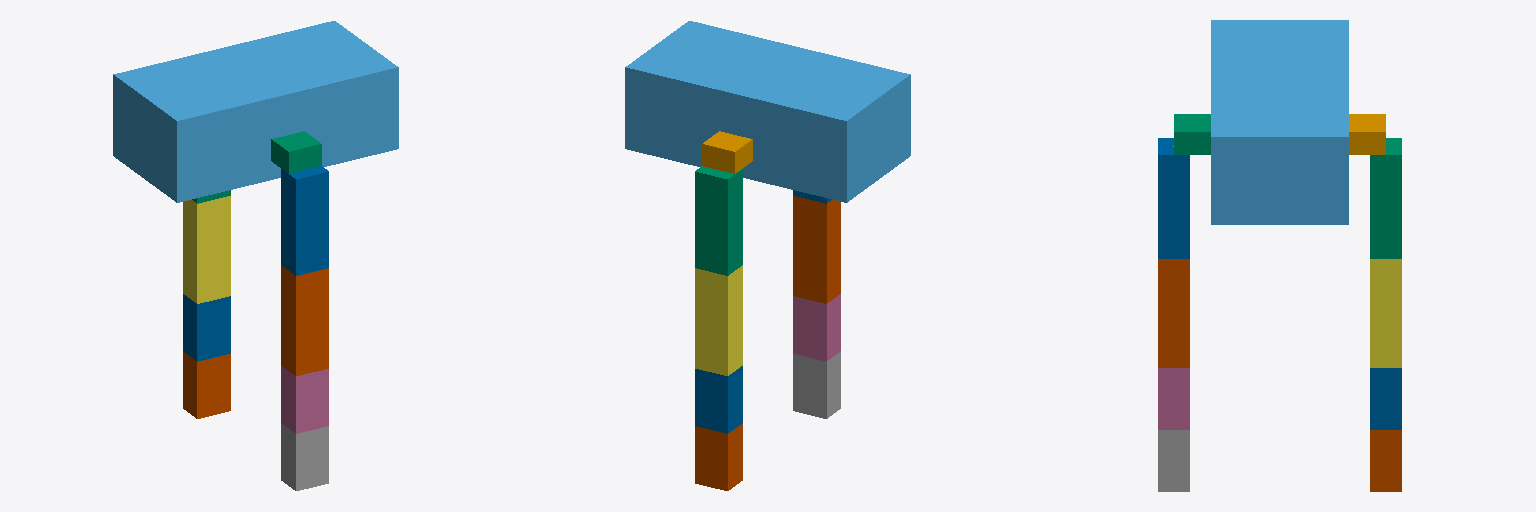
robot.urdf — body:
<?xml version="1.0" ?>
<!-- =================================================================================== -->
<!-- |    This document was autogenerated by xacro from body.xacro                     | -->
<!-- |    EDITING THIS FILE BY HAND IS NOT RECOMMENDED                                 | -->
<!-- =================================================================================== -->
<robot name="body" xmlns:xacro="http://www.ros.org/wiki/xacro">
  <link name="base_link"/>
  <joint name="base_link_to_body" type="fixed">
    <parent link="base_link"/>
    <child link="body"/>
  </joint>
  <link name="body">
    <inertial>
      <origin xyz="-0.003053 -0.038651 -0.019268"/>
      <mass value="0.97559947"/>
      <inertia ixx="3.1081800" ixy="-0.25460189" ixz="2.0318174" iyy="6.3787776" iyz="0.16417863" izz="5.3316425"/>
    </inertial>
    <visual>
      <!--origin xyz="-0.0235 0 -0.03525" rpy="0 0 0" /-->
      <origin rpy="0 0 0" xyz="0 0 0"/>
      <geometry>
        <box size="0.3 0.15 0.106"/>
      </geometry>
    </visual>
    <collision>
      <geometry>
        <box size="0.3 0.15 0.106"/>
      </geometry>
    </collision>
  </link>
  <!-- Arm -->
  <!--xacro:property name="body_height" value="0.106" /-->
  <!--xacro:property name="body_width" value="0.109" /-->
  <!--xacro:property name="body_large" value="0.102" /-->
  <!-- Left Arm -->
  <link name="l_pelvis">
    <inertial>
      <origin xyz="0.000000 0.000480 0.018437"/>
      <mass value="0.167"/>
      <inertia ixx="0.12259691" ixy="0.00071127469" ixz="0.00081143913" iyx="0.00071127469" iyy="0.11066637" iyz="-0.0071635476" izx="0.00081143913" izy="-0.0071635476" izz="0.041877668"/>
    </inertial>
    <visual>
      <origin rpy="0 0 0" xyz="0 0 -0.014326"/>
      <geometry>
        <box size="0.045 0.08175 0.028652"/>
      </geometry>
    </visual>
    <collision>
      <origin rpy="0 0 0" xyz="0 0 -0.014326"/>
      <geometry>
        <box size="0.045 0.08175 0.028652"/>
      </geometry>
    </collision>
  </link>
  <link name="l_thigh_yaw">
    <inertial>
      <origin xyz="0.000079 0.018242 0.013873"/>
      <mass value="0.11904336"/>
      <inertia ixx="0.097950272" ixy="0.0012119368" ixz="-0.00021223016" iyx="0.00122119368" iyy="0.032848287" iyz="-0.0019474021" izx="-0.00021223016" izy="-0.0019474021" izz="0.11493509"/>
    </inertial>
    <visual>
      <origin rpy="0 0 0" xyz="0 0 0"/>
      <geometry>
        <box size="0.001 0.001 0.001"/>
      </geometry>
    </visual>
    <collision>
      <geometry>
        <box size="0.001 0.001 0.001"/>
      </geometry>
    </collision>
  </link>
  <link name="l_thigh">
    <inertial>
      <origin xyz="-0.062965 -0.000323 0.000692"/>
      <mass value="0.11904336"/>
      <inertia ixx="0.097950272" ixy="0.0012119368" ixz="-0.00021223016" iyx="0.00122119368" iyy="0.032848287" iyz="-0.0019474021" izx="-0.00021223016" izy="-0.0019474021" izz="0.11493509"/>
    </inertial>
    <visual>
      <origin rpy="0 0 0" xyz="0 0 -0.0625"/>
      <geometry>
        <box size="0.045 0.035 0.125"/>
      </geometry>
    </visual>
    <collision>
      <origin rpy="0 0 0" xyz="0 0 -0.0625"/>
      <geometry>
        <box size="0.045 0.035 0.125"/>
      </geometry>
    </collision>
  </link>
  <link name="l_tibia">
    <inertial>
      <origin xyz="-0.053955 0.006548 -0.000592"/>
      <mass value="0.070309794"/>
      <inertia ixx="0.093369608" ixy="-0.00093567395" ixz="-0.00023992085" iyx="-0.00093567395" iyy="0.046295534" iyz="-0.012858493" izx="-0.00023992085" izy="-0.012858493" izz="0.11351516"/>
    </inertial>
    <visual>
      <origin rpy="0 0 0" xyz="0 0 -0.065"/>
      <geometry>
        <box size="0.045 0.035 0.13"/>
      </geometry>
    </visual>
    <collision>
      <origin rpy="0 0 0" xyz="0 0 -0.065"/>
      <geometry>
        <box size="0.045 0.035 0.13"/>
      </geometry>
    </collision>
  </link>
  <link name="l_ankle">
    <inertial>
      <origin xyz="-0.000214 -0.018536 0.013873"/>
      <mass value="0.16710792"/>
      <inertia ixx="0.12079175" ixy="-0.00079781067" ixz="-0.00039322246" iyx="-0.00079781067" iyy="0.10885465" iyz="0.0070770117" izx="-0.00039322246" izy="0.0070770117" izz="0.041871103"/>
    </inertial>
    <visual>
      <origin rpy="0 0 0" xyz="0 0 -0.03725"/>
      <geometry>
        <box size="0.045 0.035 0.0745"/>
      </geometry>
    </visual>
    <collision>
      <geometry>
        <box size="0.045 0.035 0.0745"/>
      </geometry>
    </collision>
  </link>
  <link name="l_phalange">
    <inertial>
      <origin xyz="-0.000214 -0.018536 0.013873"/>
      <mass value="0.16710792"/>
      <inertia ixx="0.12079175" ixy="-0.00079781067" ixz="-0.00039322246" iyx="-0.00079781067" iyy="0.10885465" iyz="0.0070770117" izx="-0.00039322246" izy="0.0070770117" izz="0.041871103"/>
    </inertial>
    <visual>
      <origin rpy="0 0 0" xyz="0 0 -0.03725"/>
      <geometry>
        <box size="0.045 0.035 0.0745"/>
      </geometry>
    </visual>
    <collision>
      <geometry>
        <box size="0.045 0.035 0.0745"/>
      </geometry>
    </collision>
  </link>
  <joint name="l_pelvis_joint" type="revolute">
    <parent link="body"/>
    <child link="l_pelvis"/>
    <origin rpy="0 0 0" xyz="0 -0.075 0"/>
    <axis xyz="0 0 1"/>
    <limit effort="10" lower="-2.6179939" upper="2.6179939" velocity="5.6548668"/>
  </joint>
  <joint name="l_thigh_yaw_joint" type="revolute">
    <parent link="l_pelvis"/>
    <child link="l_thigh_yaw"/>
    <origin rpy="0 0 0" xyz="0 -0.040875 -0.028652"/>
    <axis xyz="0 0 1"/>
    <limit effort="10" lower="-2.6179939" upper="2.6179939" velocity="5.6548668"/>
  </joint>
  <joint name="l_thigh_pitch_joint" type="revolute">
    <parent link="l_thigh_yaw"/>
    <child link="l_thigh"/>
    <origin rpy="0 0 0" xyz="0 0 0"/>
    <axis xyz="0 1 0"/>
    <limit effort="10" lower="-2.6179939" upper="2.6179939" velocity="5.6548668"/>
  </joint>
  <joint name="l_tibia_joint" type="revolute">
    <parent link="l_thigh"/>
    <child link="l_tibia"/>
    <origin rpy="0 0 0" xyz="0 0 -0.125"/>
    <axis xyz="0 1 0"/>
    <limit effort="10" lower="-2.6179939" upper="2.6179939" velocity="5.6548668"/>
  </joint>
  <joint name="l_ankle_joint" type="revolute">
    <parent link="l_tibia"/>
    <child link="l_ankle"/>
    <origin rpy="0 0 0" xyz="0 0 -0.13"/>
    <axis xyz="0 1 0"/>
    <limit effort="10" lower="-2.6179939" upper="2.6179939" velocity="5.6548668"/>
  </joint>
  <joint name="l_phalange_joint" type="revolute">
    <parent link="l_ankle"/>
    <child link="l_phalange"/>
    <origin rpy="0 0 0" xyz="0 0 -0.0745"/>
    <axis xyz="0 1 0"/>
    <limit effort="10" lower="-2.6179939" upper="2.6179939" velocity="5.6548668"/>
  </joint>
  <!-- Right Arm -->
  <link name="r_pelvis">
    <inertial>
      <origin xyz="0.000000 0.000480 0.018437"/>
      <mass value="0.167"/>
      <inertia ixx="0.12259691" ixy="0.00071127469" ixz="0.00081143913" iyx="0.00071127469" iyy="0.11066637" iyz="-0.0071635476" izx="0.00081143913" izy="-0.0071635476" izz="0.041877668"/>
    </inertial>
    <visual>
      <origin rpy="0 0 0" xyz="0 0 -0.014326"/>
      <geometry>
        <box size="0.045 0.08175 0.028652"/>
      </geometry>
    </visual>
    <collision>
      <origin rpy="0 0 0" xyz="0 0 -0.014326"/>
      <geometry>
        <box size="0.045 0.08175 0.028652"/>
      </geometry>
    </collision>
  </link>
  <link name="r_thigh_yaw">
    <inertial>
      <origin xyz="0.000079 0.018242 0.013873"/>
      <mass value="0.11904336"/>
      <inertia ixx="0.097950272" ixy="0.0012119368" ixz="-0.00021223016" iyx="0.00122119368" iyy="0.032848287" iyz="-0.0019474021" izx="-0.00021223016" izy="-0.0019474021" izz="0.11493509"/>
    </inertial>
    <visual>
      <origin rpy="0 0 0" xyz="0 0 0"/>
      <geometry>
        <box size="0.001 0.001 0.001"/>
      </geometry>
    </visual>
    <collision>
      <geometry>
        <box size="0.001 0.001 0.001"/>
      </geometry>
    </collision>
  </link>
  <link name="r_thigh">
    <inertial>
      <origin xyz="-0.062965 -0.000323 0.000692"/>
      <mass value="0.11904336"/>
      <inertia ixx="0.097950272" ixy="0.0012119368" ixz="-0.00021223016" iyx="0.00122119368" iyy="0.032848287" iyz="-0.0019474021" izx="-0.00021223016" izy="-0.0019474021" izz="0.11493509"/>
    </inertial>
    <visual>
      <origin rpy="0 0 0" xyz="0 0 -0.0625"/>
      <geometry>
        <box size="0.045 0.035 0.125"/>
      </geometry>
    </visual>
    <collision>
      <origin rpy="0 0 0" xyz="0 0 -0.0625"/>
      <geometry>
        <box size="0.045 0.035 0.125"/>
      </geometry>
    </collision>
  </link>
  <link name="r_tibia">
    <inertial>
      <origin xyz="-0.053955 0.006548 -0.000592"/>
      <mass value="0.070309794"/>
      <inertia ixx="0.093369608" ixy="-0.00093567395" ixz="-0.00023992085" iyx="-0.00093567395" iyy="0.046295534" iyz="-0.012858493" izx="-0.00023992085" izy="-0.012858493" izz="0.11351516"/>
    </inertial>
    <visual>
      <origin rpy="0 0 0" xyz="0 0 -0.065"/>
      <geometry>
        <box size="0.045 0.035 0.13"/>
      </geometry>
    </visual>
    <collision>
      <origin rpy="0 0 0" xyz="0 0 -0.065"/>
      <geometry>
        <box size="0.045 0.035 0.13"/>
      </geometry>
    </collision>
  </link>
  <link name="r_ankle">
    <inertial>
      <origin xyz="-0.000214 -0.018536 0.013873"/>
      <mass value="0.16710792"/>
      <inertia ixx="0.12079175" ixy="-0.00079781067" ixz="-0.00039322246" iyx="-0.00079781067" iyy="0.10885465" iyz="0.0070770117" izx="-0.00039322246" izy="0.0070770117" izz="0.041871103"/>
    </inertial>
    <visual>
      <origin rpy="0 0 0" xyz="0 0 -0.03725"/>
      <geometry>
        <box size="0.045 0.035 0.0745"/>
      </geometry>
    </visual>
    <collision>
      <geometry>
        <box size="0.045 0.035 0.0745"/>
      </geometry>
    </collision>
  </link>
  <link name="r_phalange">
    <inertial>
      <origin xyz="-0.000214 -0.018536 0.013873"/>
      <mass value="0.16710792"/>
      <inertia ixx="0.12079175" ixy="-0.00079781067" ixz="-0.00039322246" iyx="-0.00079781067" iyy="0.10885465" iyz="0.0070770117" izx="-0.00039322246" izy="0.0070770117" izz="0.041871103"/>
    </inertial>
    <visual>
      <origin rpy="0 0 0" xyz="0 0 -0.03725"/>
      <geometry>
        <box size="0.045 0.035 0.0745"/>
      </geometry>
    </visual>
    <collision>
      <geometry>
        <box size="0.045 0.035 0.0745"/>
      </geometry>
    </collision>
  </link>
  <joint name="r_pelvis_joint" type="revolute">
    <parent link="body"/>
    <child link="r_pelvis"/>
    <origin rpy="0 0 0" xyz="0 0.075 0"/>
    <axis xyz="0 0 1"/>
    <limit effort="10" lower="-2.6179939" upper="2.6179939" velocity="5.6548668"/>
  </joint>
  <joint name="r_thigh_yaw_joint" type="revolute">
    <parent link="r_pelvis"/>
    <child link="r_thigh_yaw"/>
    <origin rpy="0 0 0" xyz="0 0.040875 -0.028652"/>
    <axis xyz="0 0 1"/>
    <limit effort="10" lower="-2.6179939" upper="2.6179939" velocity="5.6548668"/>
  </joint>
  <joint name="r_thigh_pitch_joint" type="revolute">
    <parent link="r_thigh_yaw"/>
    <child link="r_thigh"/>
    <origin rpy="0 0 0" xyz="0 0 0"/>
    <axis xyz="0 1 0"/>
    <limit effort="10" lower="-2.6179939" upper="2.6179939" velocity="5.6548668"/>
  </joint>
  <joint name="r_tibia_joint" type="revolute">
    <parent link="r_thigh"/>
    <child link="r_tibia"/>
    <origin rpy="0 0 0" xyz="0 0 -0.125"/>
    <axis xyz="0 1 0"/>
    <limit effort="10" lower="-2.6179939" upper="2.6179939" velocity="5.6548668"/>
  </joint>
  <joint name="r_ankle_joint" type="revolute">
    <parent link="r_tibia"/>
    <child link="r_ankle"/>
    <origin rpy="0 0 0" xyz="0 0 -0.13"/>
    <axis xyz="0 1 0"/>
    <limit effort="10" lower="-2.6179939" upper="2.6179939" velocity="5.6548668"/>
  </joint>
  <joint name="r_phalange_joint" type="revolute">
    <parent link="r_ankle"/>
    <child link="r_phalange"/>
    <origin rpy="0 0 0" xyz="0 0 -0.0745"/>
    <axis xyz="0 1 0"/>
    <limit effort="10" lower="-2.6179939" upper="2.6179939" velocity="5.6548668"/>
  </joint>
</robot>

--- Facts derived from the render (not from the file) ---
The picture shows the robot from 3 angles, left to right: view 1: azimuth 30°, elevation 25°; view 2: azimuth 150°, elevation 25°; view 3: azimuth 270°, elevation 25°; orthographic projection.
Model body with 14 links and 13 joints (12 revolute, 1 fixed), rooted at base_link, posed every joint at zero.
Links seen in each view (by area): view 1: body, l_thigh, l_tibia, r_tibia, l_ankle, r_ankle, l_phalange, r_phalange, l_pelvis; view 2: body, r_thigh, r_tibia, l_tibia, l_ankle, r_ankle, l_phalange, r_phalange, r_pelvis; view 3: body, l_thigh, r_thigh, l_tibia, r_tibia, l_ankle, l_phalange, r_ankle, r_phalange, l_pelvis, r_pelvis.
Boxes of the visible links, left/top/right/bottom form: body: left=113, top=21, right=398, bottom=202; l_thigh: left=281, top=166, right=328, bottom=275; l_tibia: left=281, top=265, right=328, bottom=375; r_tibia: left=183, top=196, right=230, bottom=303; l_ankle: left=281, top=366, right=328, bottom=433; r_ankle: left=183, top=294, right=230, bottom=361; l_phalange: left=281, top=423, right=328, bottom=490; r_phalange: left=183, top=351, right=230, bottom=418; l_pelvis: left=271, top=131, right=321, bottom=173; body: left=625, top=21, right=910, bottom=202; r_thigh: left=695, top=166, right=742, bottom=275; r_tibia: left=695, top=265, right=742, bottom=375; l_tibia: left=793, top=196, right=840, bottom=303; l_ankle: left=793, top=294, right=840, bottom=361; r_ankle: left=695, top=366, right=742, bottom=433; l_phalange: left=793, top=351, right=840, bottom=418; r_phalange: left=695, top=423, right=742, bottom=490; r_pelvis: left=702, top=131, right=752, bottom=173; body: left=1211, top=20, right=1348, bottom=224; l_thigh: left=1158, top=138, right=1189, bottom=258; r_thigh: left=1370, top=138, right=1401, bottom=258; l_tibia: left=1158, top=259, right=1189, bottom=367; r_tibia: left=1370, top=259, right=1401, bottom=367; l_ankle: left=1158, top=368, right=1189, bottom=429; l_phalange: left=1158, top=430, right=1189, bottom=491; r_ankle: left=1370, top=368, right=1401, bottom=429; r_phalange: left=1370, top=430, right=1401, bottom=491; l_pelvis: left=1174, top=114, right=1210, bottom=154; r_pelvis: left=1349, top=114, right=1385, bottom=154.
Bounding box of the posed robot: 0.3 × 0.2668 × 0.4857 m (x, y, z).
Geometry: primitives only (box / cylinder / sphere), no mesh files.